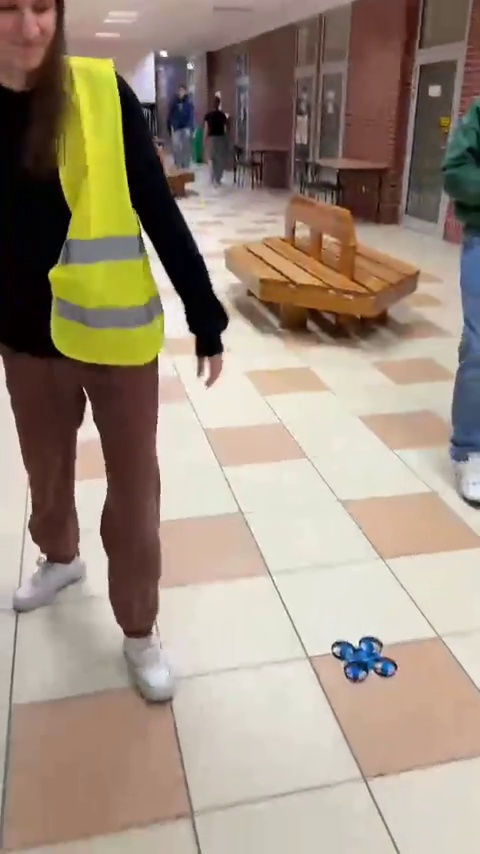drone: (328, 638, 396, 683)
no vest: (160, 84, 195, 175), (201, 95, 234, 189)
vest: (0, 2, 186, 704)
